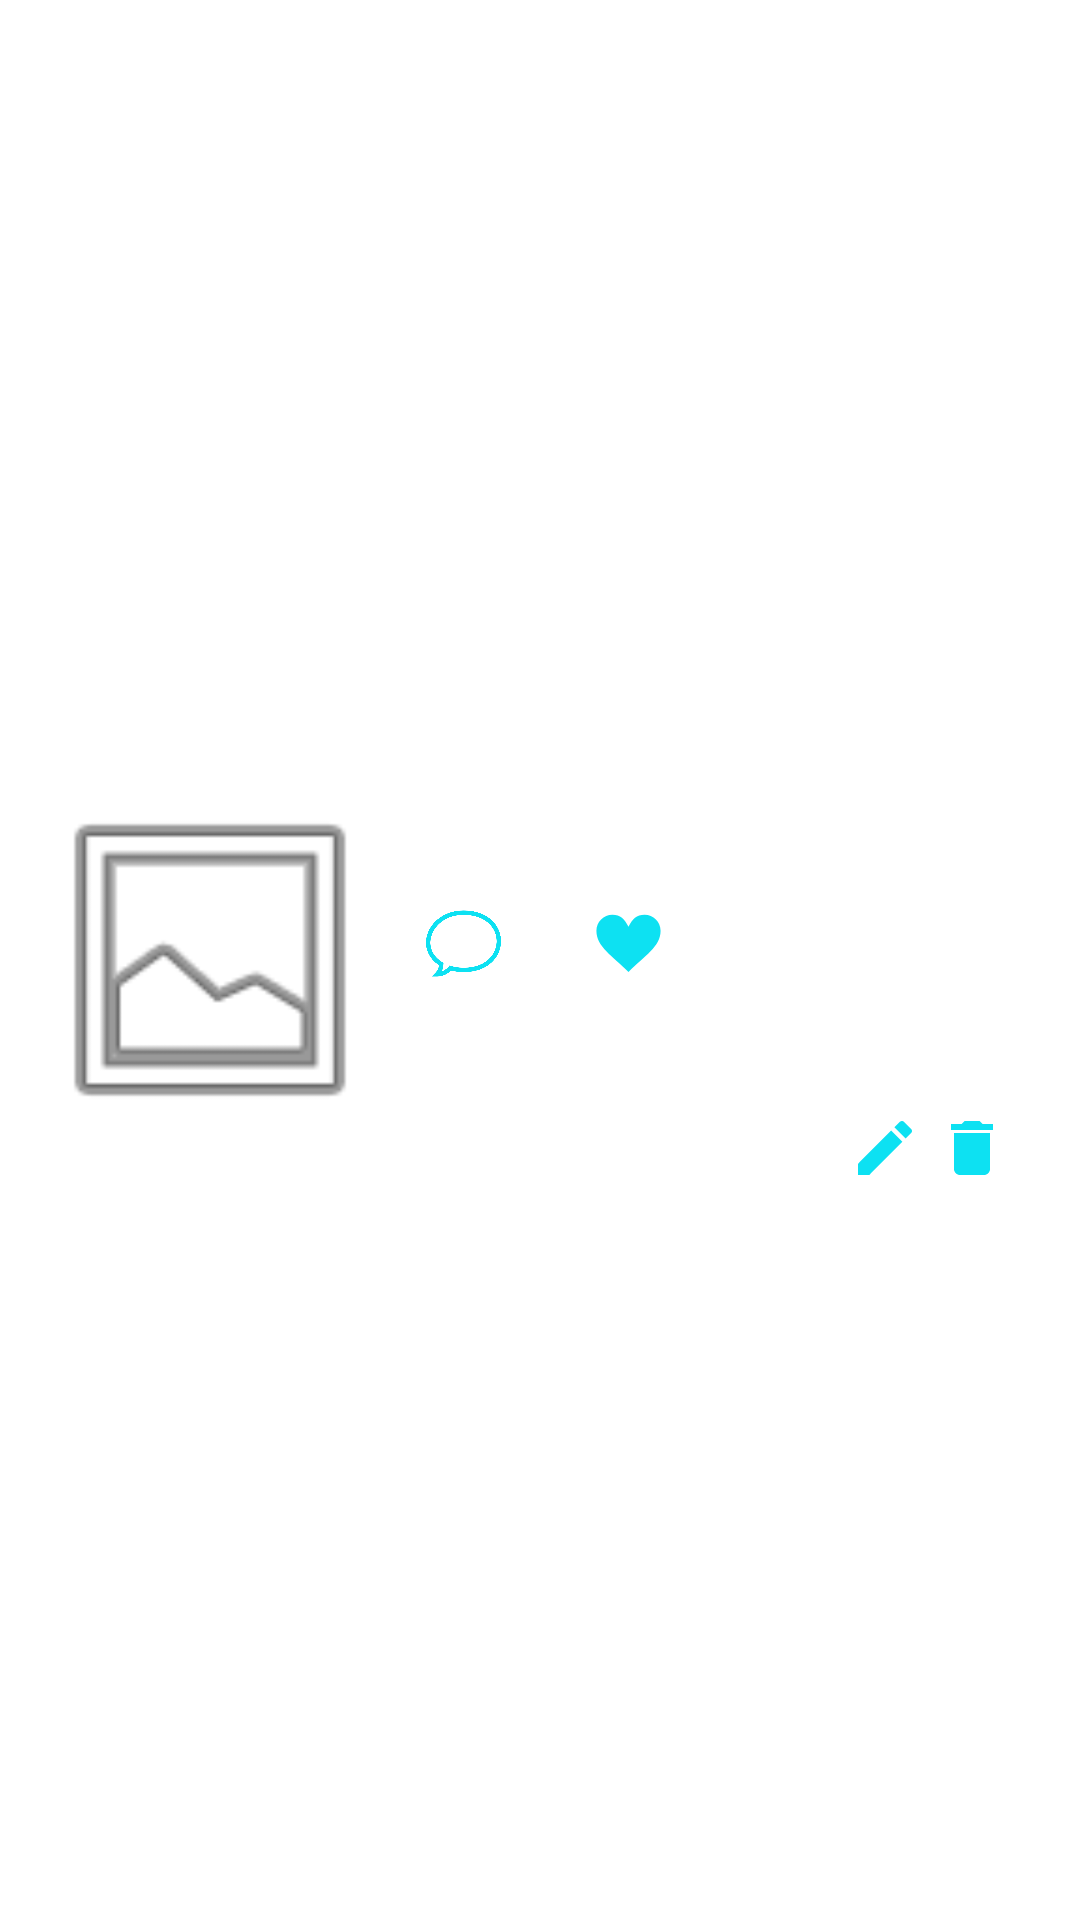

Named icons in this screenshot (1080 × 1920) and their centers, (x,y):
comment: (463,943)
delete: (972,1148)
edit: (885,1148)
gallery: (210,960)
like: (628,943)
